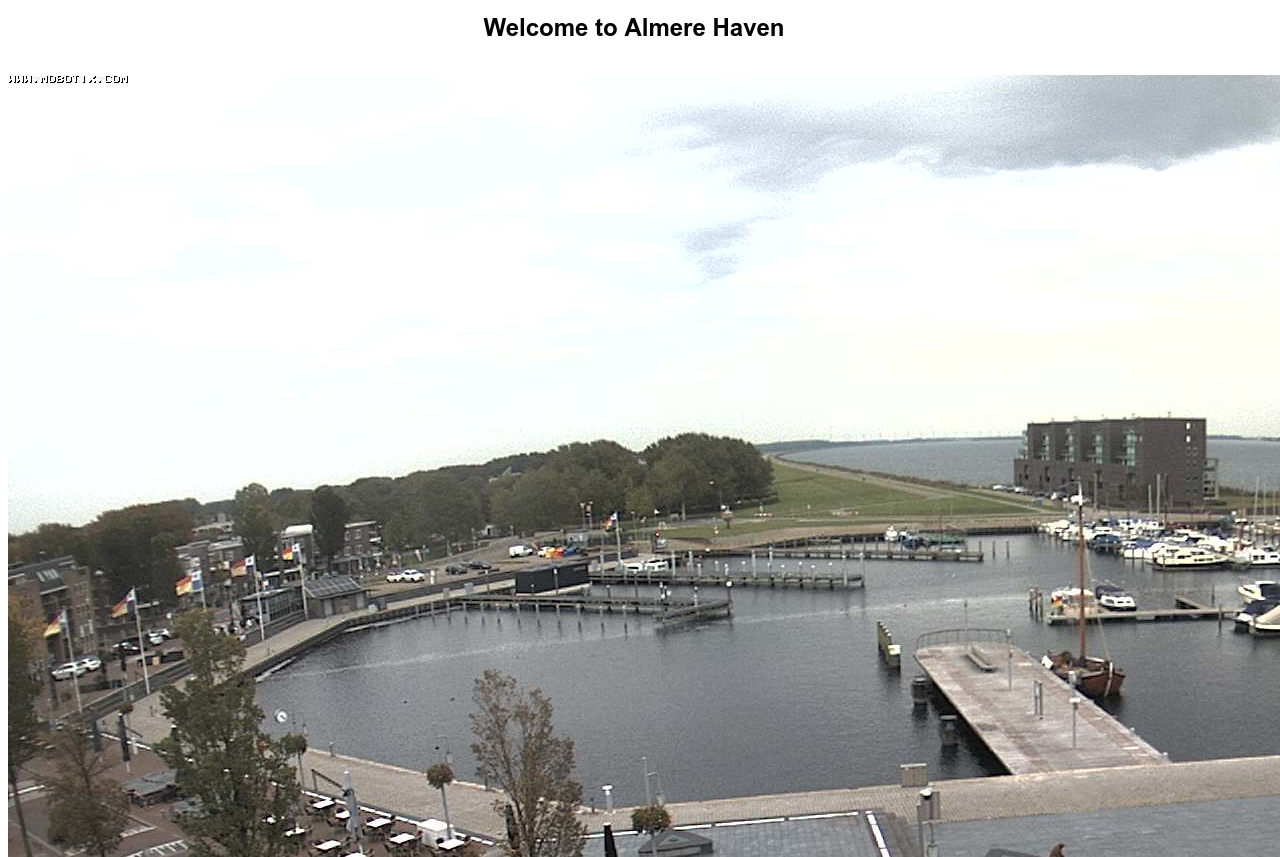maybe: (604, 511, 619, 533)
yes: (107, 584, 138, 625), (226, 548, 259, 584), (40, 604, 70, 643), (173, 565, 205, 600), (275, 538, 304, 565)
